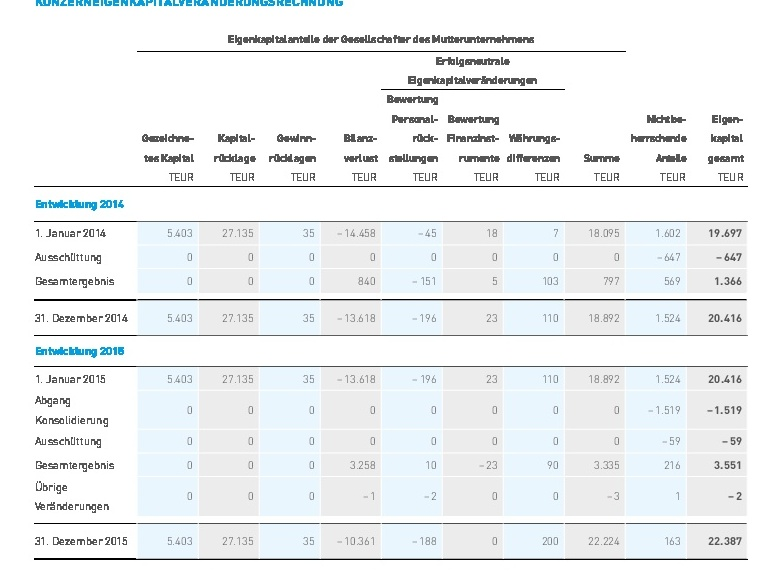table: (0, 0, 768, 584)
